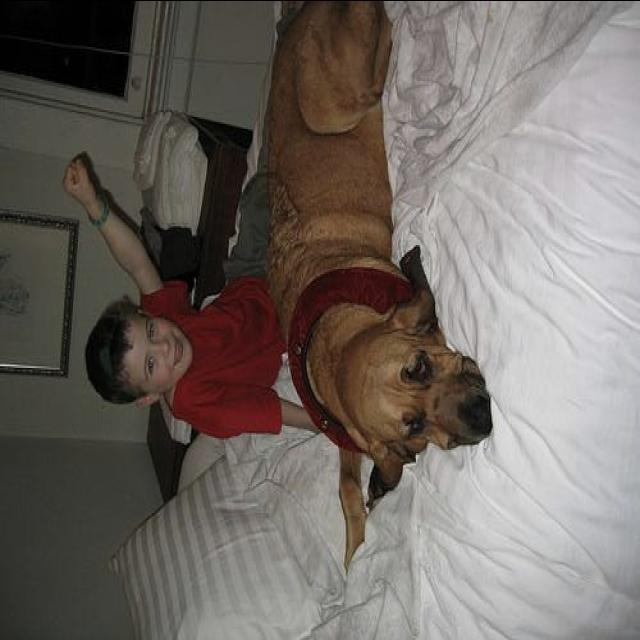bloodhound: (262, 4, 496, 498)
